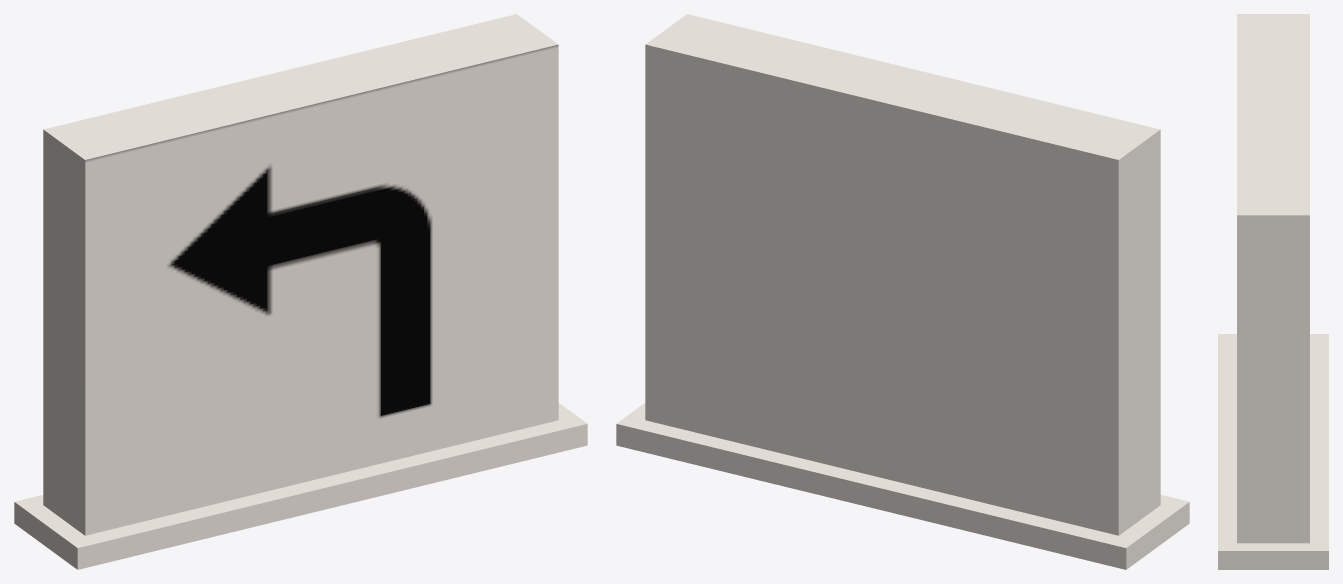
File: LP_Track pointers_01 .fbx
3 renders of one model, left to right at view 1: azimuth 30°, elevation 25°; view 2: azimuth 150°, elevation 25°; view 3: azimuth 270°, elevation 25°, orthographic. The views are drawn at different scales.
Visible parts, largest first — view 1: LP_Track pointers_01; view 2: LP_Track pointers_01; view 3: LP_Track pointers_01.
Part boxes in pixels (bbox=[...]): LP_Track pointers_01: bbox=[14, 14, 587, 569]; LP_Track pointers_01: bbox=[616, 14, 1189, 569]; LP_Track pointers_01: bbox=[1218, 14, 1328, 569].
Bounding box in the file's own units: 0.9178 × 0.6837 × 0.1978.
